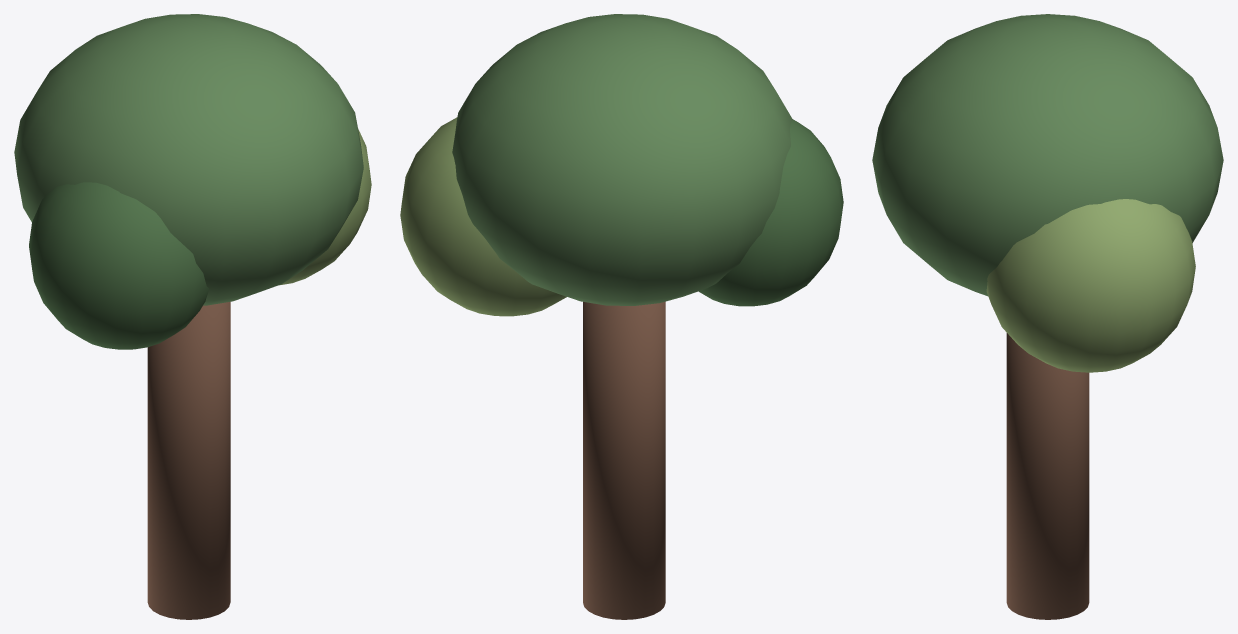
The model's file is tree.round-old.glb.
The picture shows the model from 3 angles, left to right: view 1: azimuth 30°, elevation 25°; view 2: azimuth 150°, elevation 25°; view 3: azimuth 270°, elevation 25°; orthographic projection.
Visible parts, largest first — view 1: trunk; view 2: trunk; view 3: trunk.
Part boxes in pixels (left/top/right/bottom): trunk: left=14, top=14, right=371, bottom=619; trunk: left=400, top=14, right=843, bottom=619; trunk: left=872, top=14, right=1223, bottom=619.
Bounding box in the file's own units: 1.43 × 2.12 × 1.19.
